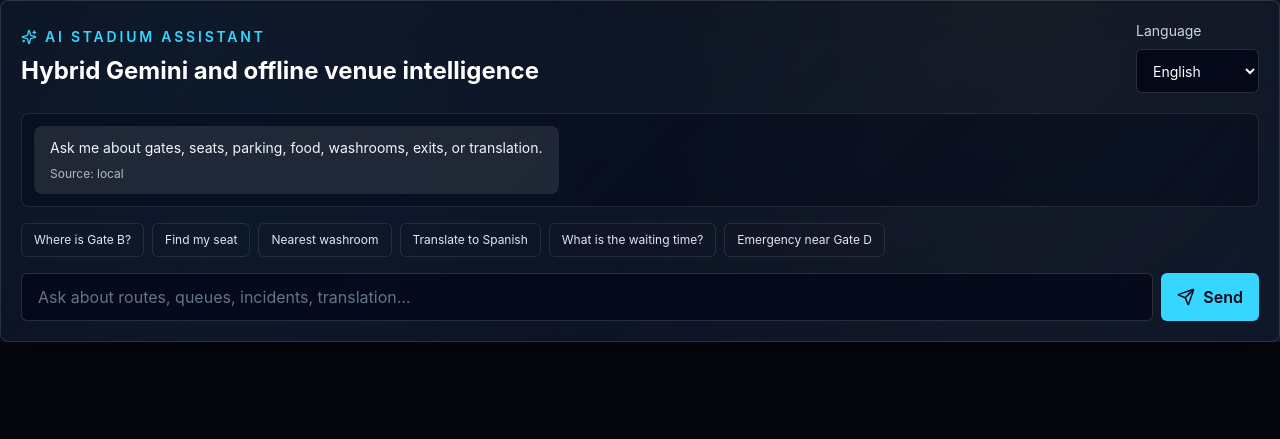
Scenario: AIAssistant › announces validation failures without submitting a valid prompt
Click the button "Send" at (1210, 297), box [1161,273,1259,321]
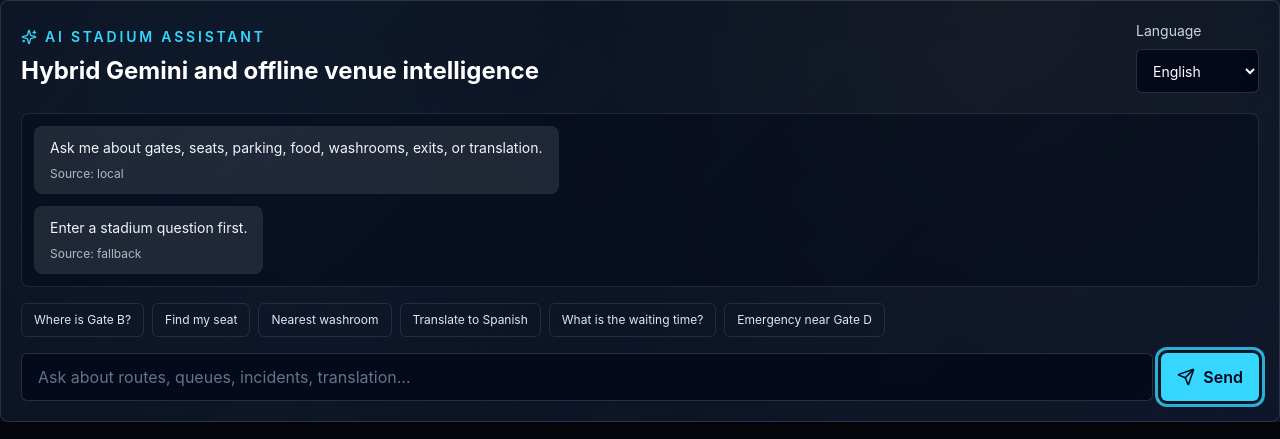
Check: the element named "assistant conversation" is shown, box [21,113,1259,287]
Check: the text "Enter a stadium question first." is shown, box [50,218,248,238]
